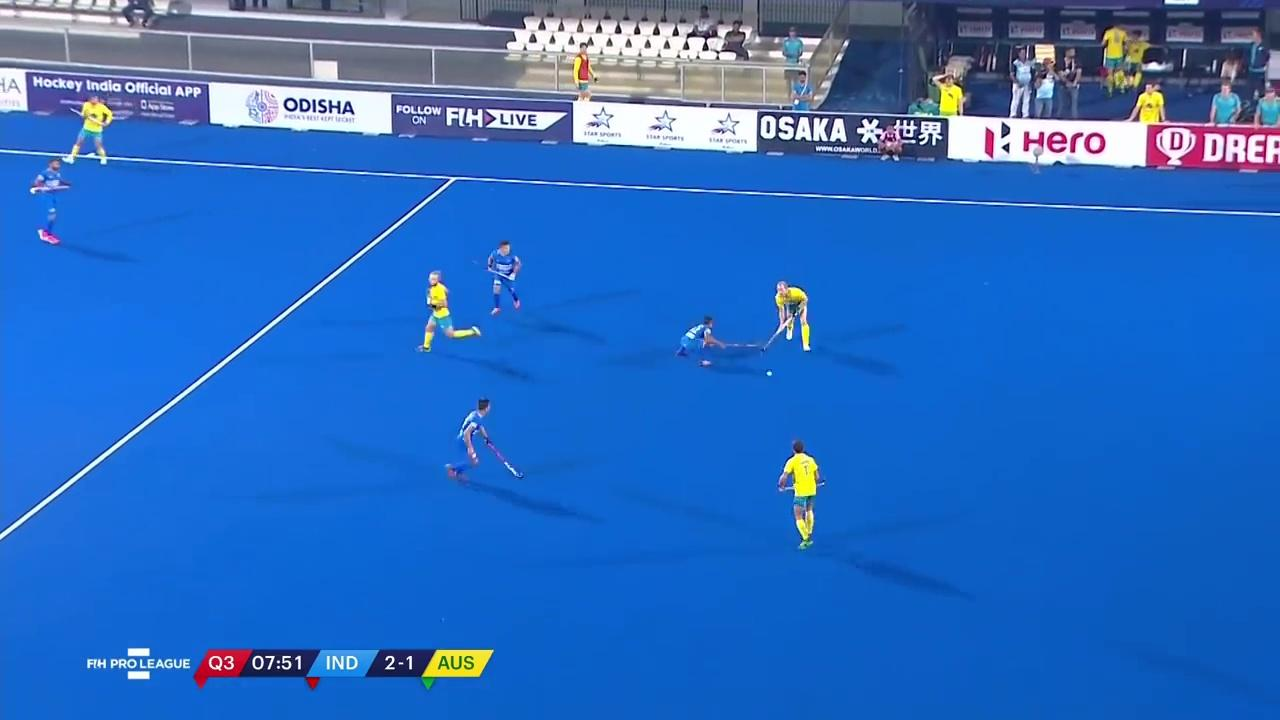ball: (762, 367, 776, 379)
